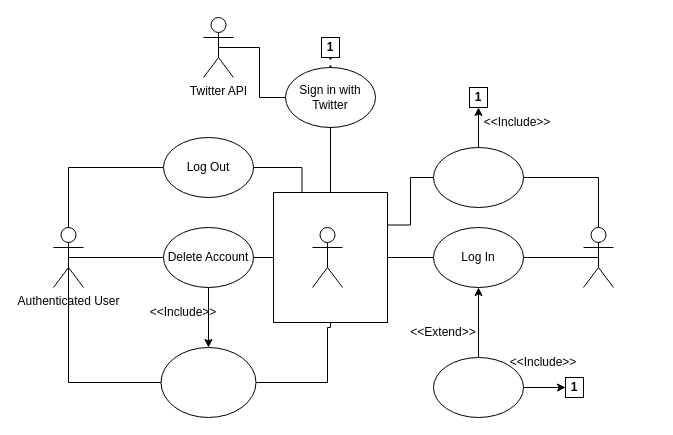
This 673x435 diagram has some shape labels left out. Here are the shapes that lost their labels. From the top down, the centre of each, then its label:
the point at 478,177: Sign Up with Twitter
the point at 327,257: Main Application
the point at 598,257: Unauthenticated User
the point at 208,382: Delete Account Associated Twitter Data
the point at 478,387: Log In With Twitter
